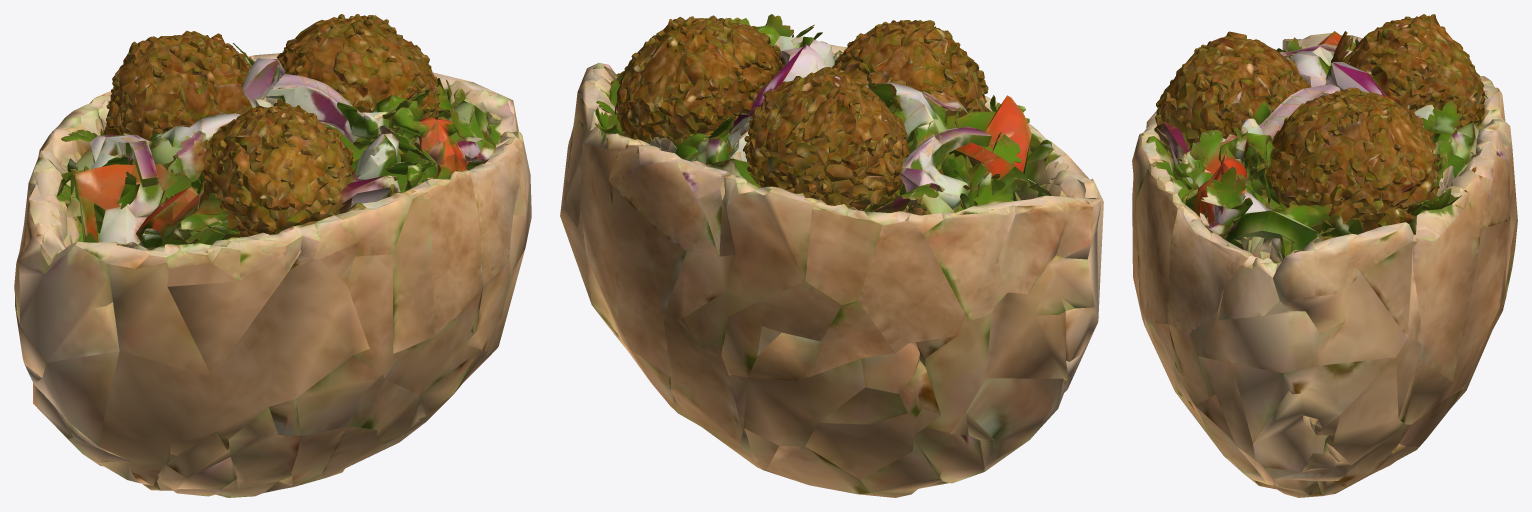
Rendered from pita.glb.
3 renders of one model, left to right at view 1: azimuth 30°, elevation 25°; view 2: azimuth 150°, elevation 25°; view 3: azimuth 270°, elevation 25°, orthographic. The views are drawn at different scales.
Visible parts, largest first — view 1: Mesh_0; view 2: Mesh_0; view 3: Mesh_0.
Part boxes in pixels (x1,y1,x2,y2): Mesh_0: (14,14,531,497); Mesh_0: (560,14,1103,497); Mesh_0: (1132,14,1517,497).
Size of the model in its own units: 1.89 by 1.54 by 1.25.
Materials: 1 (1 with a texture image).
